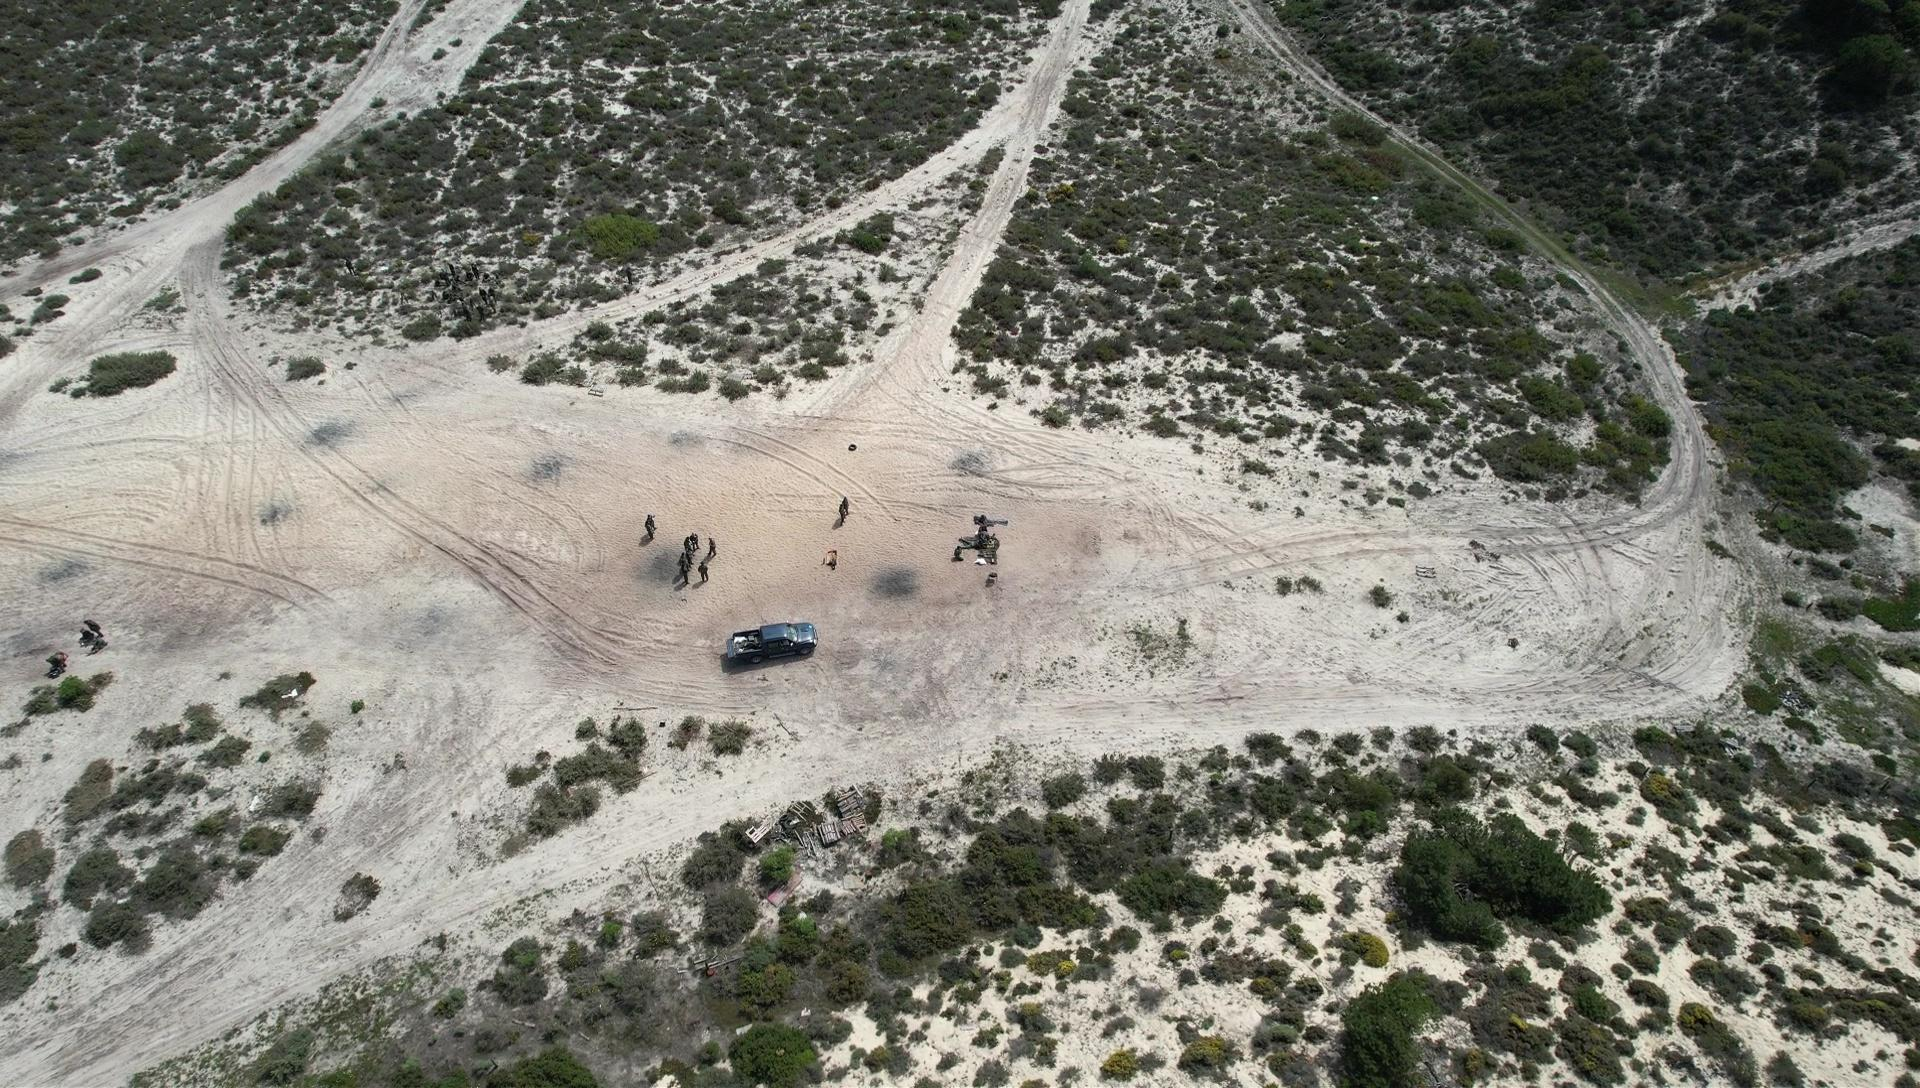Soldier: (957, 534, 996, 554), (641, 510, 661, 543), (695, 560, 712, 586), (678, 563, 694, 584), (837, 500, 851, 525), (705, 535, 720, 558), (682, 531, 695, 555), (951, 543, 963, 564)
